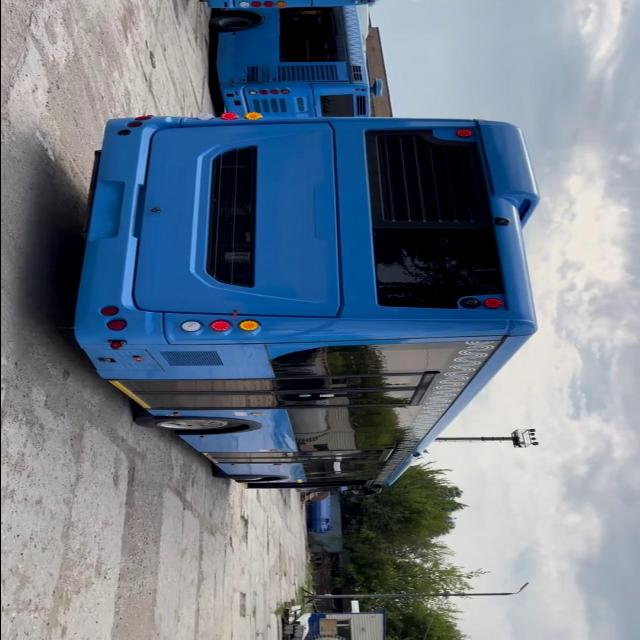bus: (65, 114, 547, 500)
